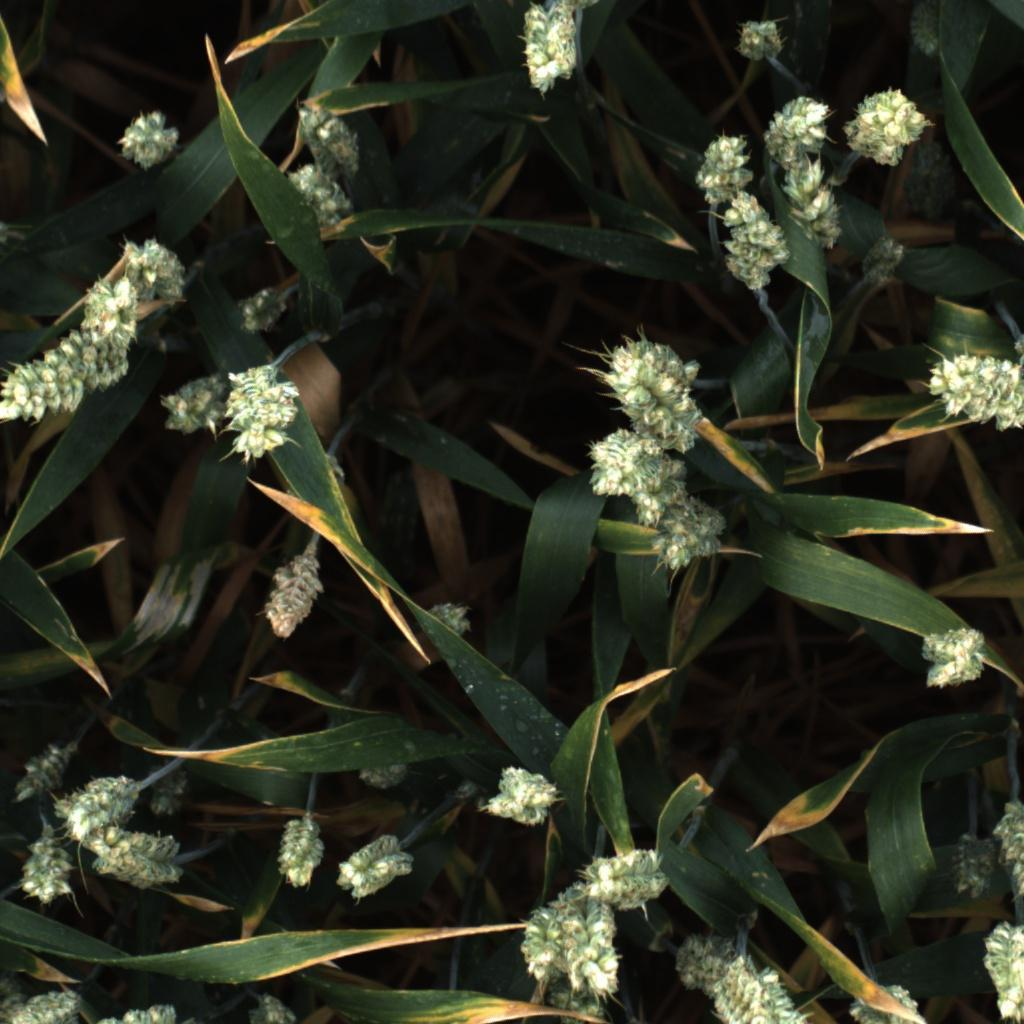0-0: (592, 331, 720, 460), (516, 866, 626, 1003), (0, 337, 115, 426), (217, 359, 302, 463), (923, 347, 1024, 433), (509, 0, 597, 94), (68, 269, 137, 386), (712, 188, 787, 294), (839, 89, 935, 171), (631, 499, 729, 578), (584, 429, 686, 504), (711, 962, 823, 1024), (117, 236, 191, 327), (781, 153, 844, 255), (91, 822, 179, 893), (53, 774, 139, 844), (257, 554, 323, 643), (753, 91, 839, 159), (289, 97, 368, 170), (581, 840, 669, 903), (332, 831, 412, 900), (673, 923, 748, 996), (688, 129, 755, 209), (111, 101, 184, 174), (531, 968, 627, 1023), (287, 155, 355, 231), (488, 760, 559, 832), (919, 619, 989, 692), (904, 142, 961, 227), (18, 832, 81, 905), (157, 371, 224, 437), (844, 978, 938, 1024), (991, 800, 1024, 926), (5, 740, 68, 804), (272, 817, 324, 888), (942, 834, 995, 900), (727, 8, 788, 64), (354, 750, 420, 801), (899, 0, 951, 63), (1, 984, 80, 1024), (232, 280, 286, 336), (863, 230, 905, 295), (416, 599, 474, 643), (95, 997, 185, 1024), (149, 765, 192, 817), (248, 996, 307, 1024)
